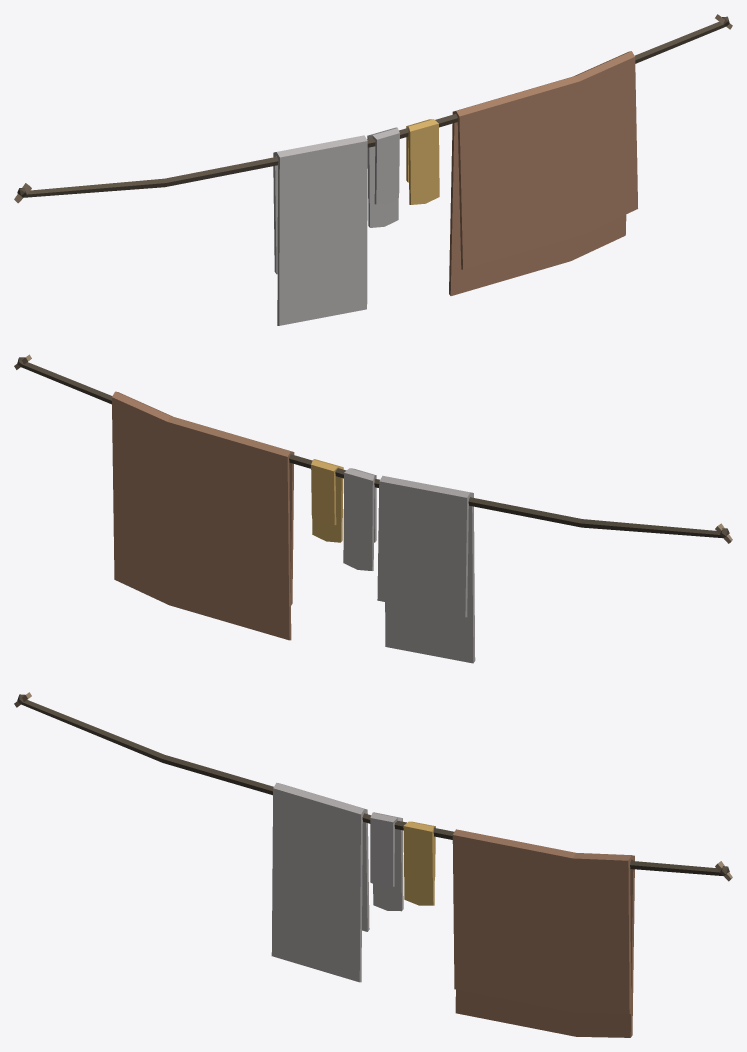
Rendered from SM_Prop_Washingline_01.glb.
3 views of the same model, one above another, from view 1: azimuth 30°, elevation 25°; view 2: azimuth 150°, elevation 25°; view 3: azimuth 330°, elevation 25° (orthographic).
Visible parts, largest first — view 1: SM_Prop_Washingline_01; view 2: SM_Prop_Washingline_01; view 3: SM_Prop_Washingline_01.
Boxes of the visible parts, bbox=[...] form: SM_Prop_Washingline_01: bbox=[14, 14, 732, 325]; SM_Prop_Washingline_01: bbox=[14, 354, 732, 663]; SM_Prop_Washingline_01: bbox=[14, 692, 732, 1037].
Bounding box in the file's own units: 6.91 × 2 × 0.1434.
Materials: 1 (1 with a texture image).
